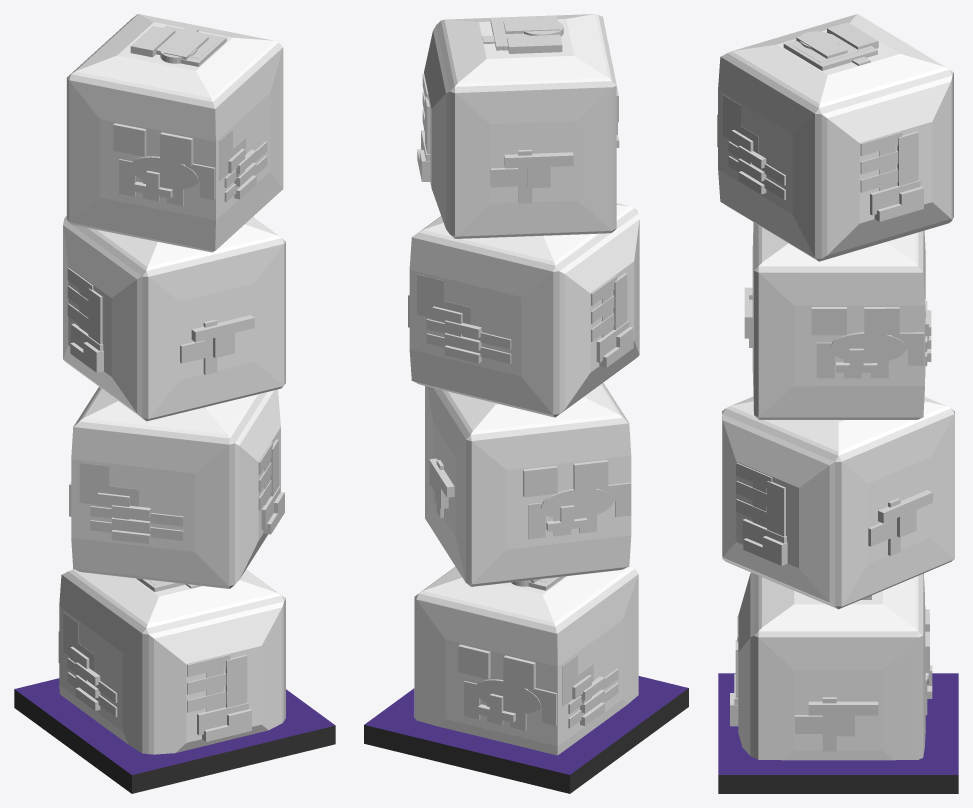
File: building_5.fbx
3 renders of one model, left to right at view 1: azimuth 30°, elevation 25°; view 2: azimuth 150°, elevation 25°; view 3: azimuth 270°, elevation 25°, orthographic. The views are drawn at different scales.
Parts seen in each view (by area): view 1: Cube.100, Cube.099, Cube.098, Cube.096, Base.006; view 2: Cube.100, Cube.099, Cube.098, Cube.096, Base.006; view 3: Cube.100, Cube.098, Cube.096, Cube.099, Base.006.
Part boxes in pixels (bbox=[...]): Cube.100: bbox=[66, 14, 283, 252]; Cube.099: bbox=[63, 216, 285, 421]; Cube.098: bbox=[69, 387, 284, 588]; Cube.096: bbox=[58, 569, 285, 754]; Base.006: bbox=[14, 678, 335, 793]; Cube.100: bbox=[417, 14, 619, 238]; Cube.099: bbox=[408, 203, 639, 417]; Cube.098: bbox=[425, 383, 631, 586]; Cube.096: bbox=[414, 566, 638, 755]; Base.006: bbox=[364, 676, 688, 793]; Cube.100: bbox=[717, 14, 953, 261]; Cube.098: bbox=[722, 396, 954, 609]; Cube.096: bbox=[730, 572, 932, 760]; Cube.099: bbox=[744, 222, 931, 419]; Base.006: bbox=[718, 673, 958, 793].
Bounding box in the file's own units: 811 × 2664 × 804.
